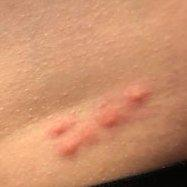Bed Bugs: (121, 82, 150, 109), (46, 118, 72, 138), (96, 107, 121, 127), (56, 140, 77, 157), (80, 124, 95, 143)
